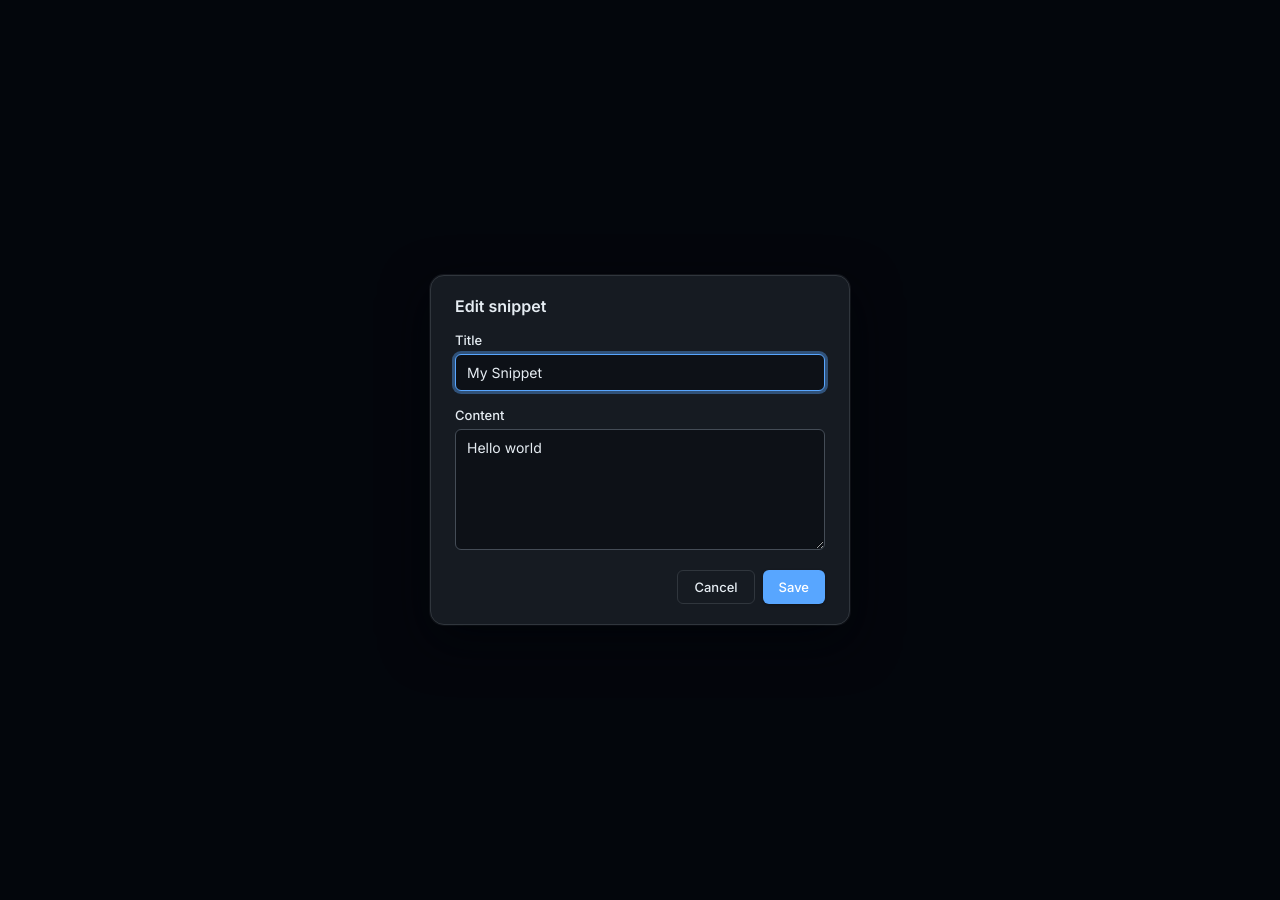
Test case: EditSnippetModal › validates title on save
The image size is (1280, 900).
Step 1. Replace the text in the field labelled "Title" with "ab" → (640,373), box [455, 354, 825, 391]
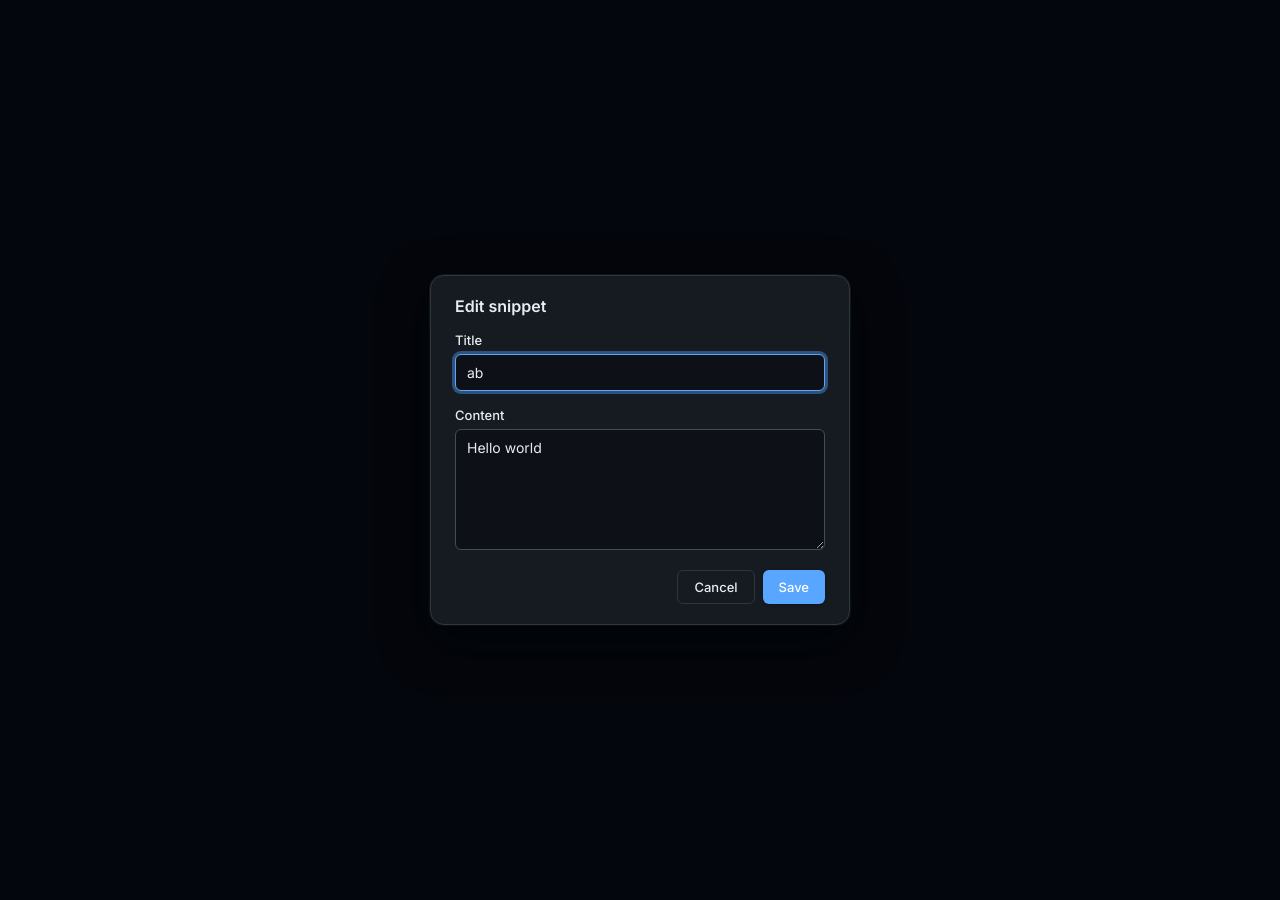
Step 2. Click the button "Save" → (794,587), box [762, 570, 825, 604]
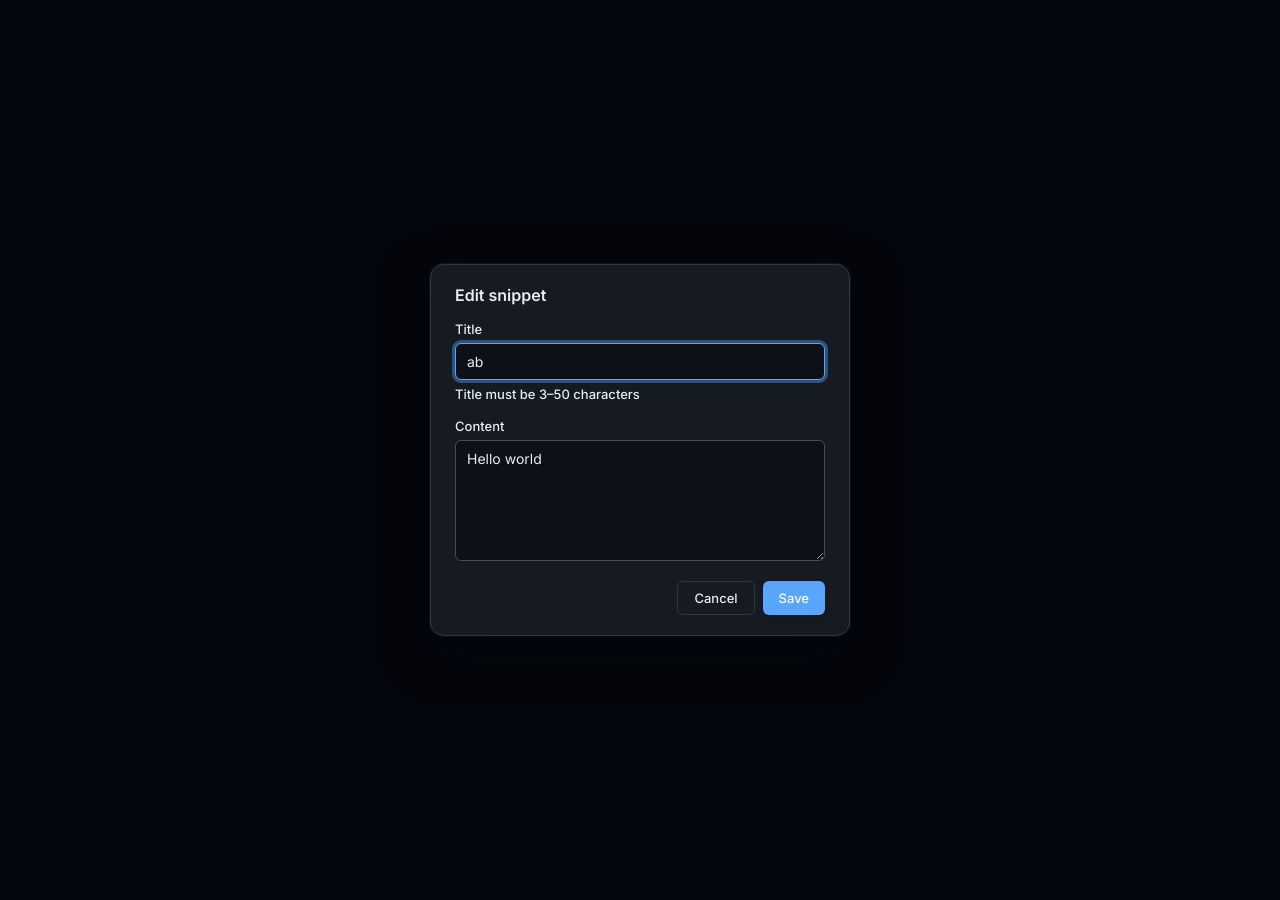
Result: the message "Title must be 3–50 characters" is shown at [455, 386, 640, 402]
